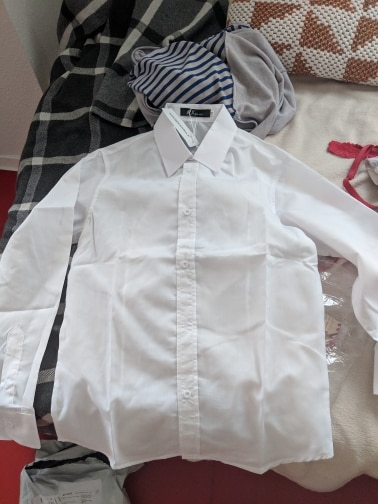shirts: (32, 106, 378, 469)
